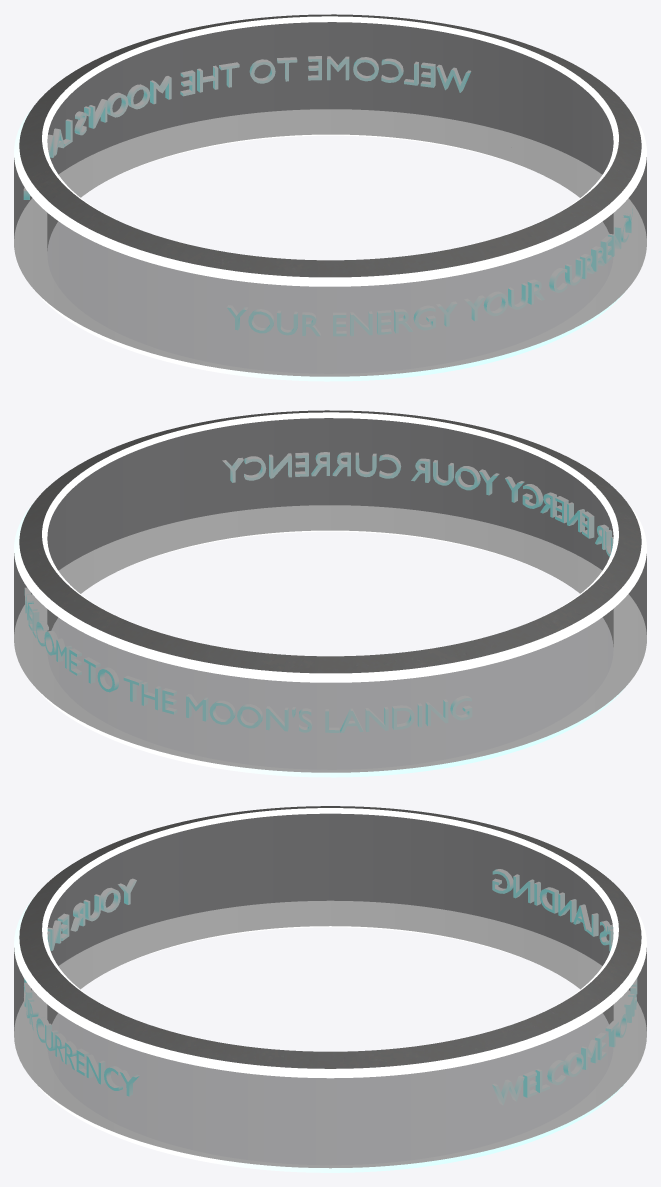
Rendered from Center.fbx.
3 views of the same model, one above another, from view 1: azimuth 30°, elevation 25°; view 2: azimuth 150°, elevation 25°; view 3: azimuth 270°, elevation 25° (orthographic).
Visible parts, largest first — view 1: First Floor.001, First Floor.002, Text_Both; view 2: First Floor.001, First Floor.002, Text_Both; view 3: First Floor.001, First Floor.002, Text_Both.
Boxes of the visible parts, x1,y1,x2,y2 form: First Floor.001: [14, 22, 646, 376]; First Floor.002: [14, 14, 646, 381]; Text_Both: [23, 56, 632, 336]; First Floor.001: [14, 418, 646, 772]; First Floor.002: [14, 410, 646, 777]; Text_Both: [24, 452, 613, 732]; First Floor.001: [14, 813, 646, 1167]; First Floor.002: [14, 806, 646, 1172]; Text_Both: [24, 869, 637, 1105].
Size of the model in its own units: 9767 by 2031 by 9772.
